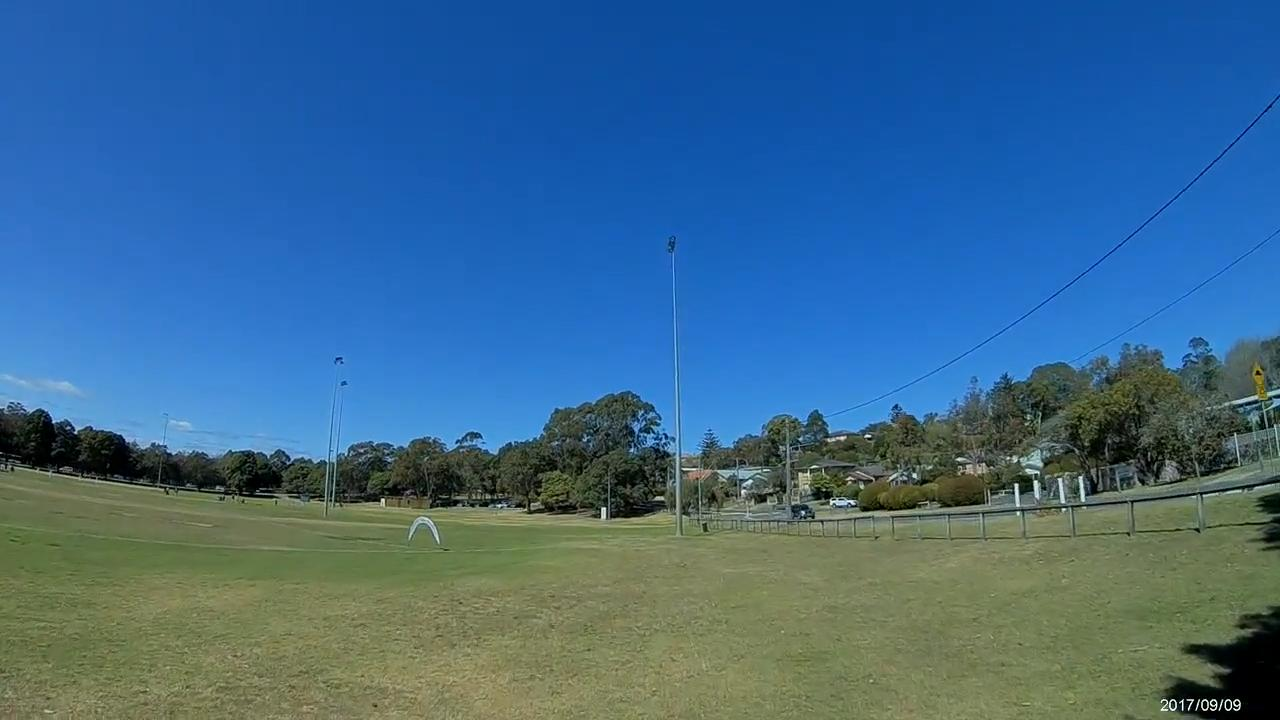gate: (406, 516, 438, 549)
